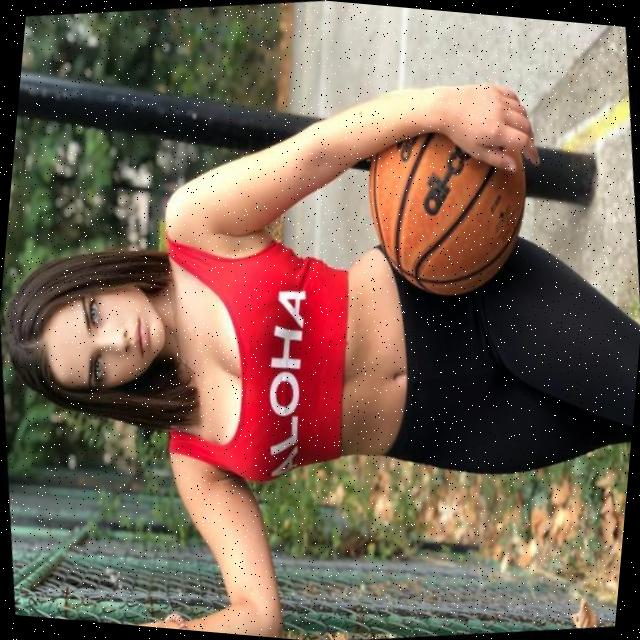ball: (351, 123, 546, 314)
